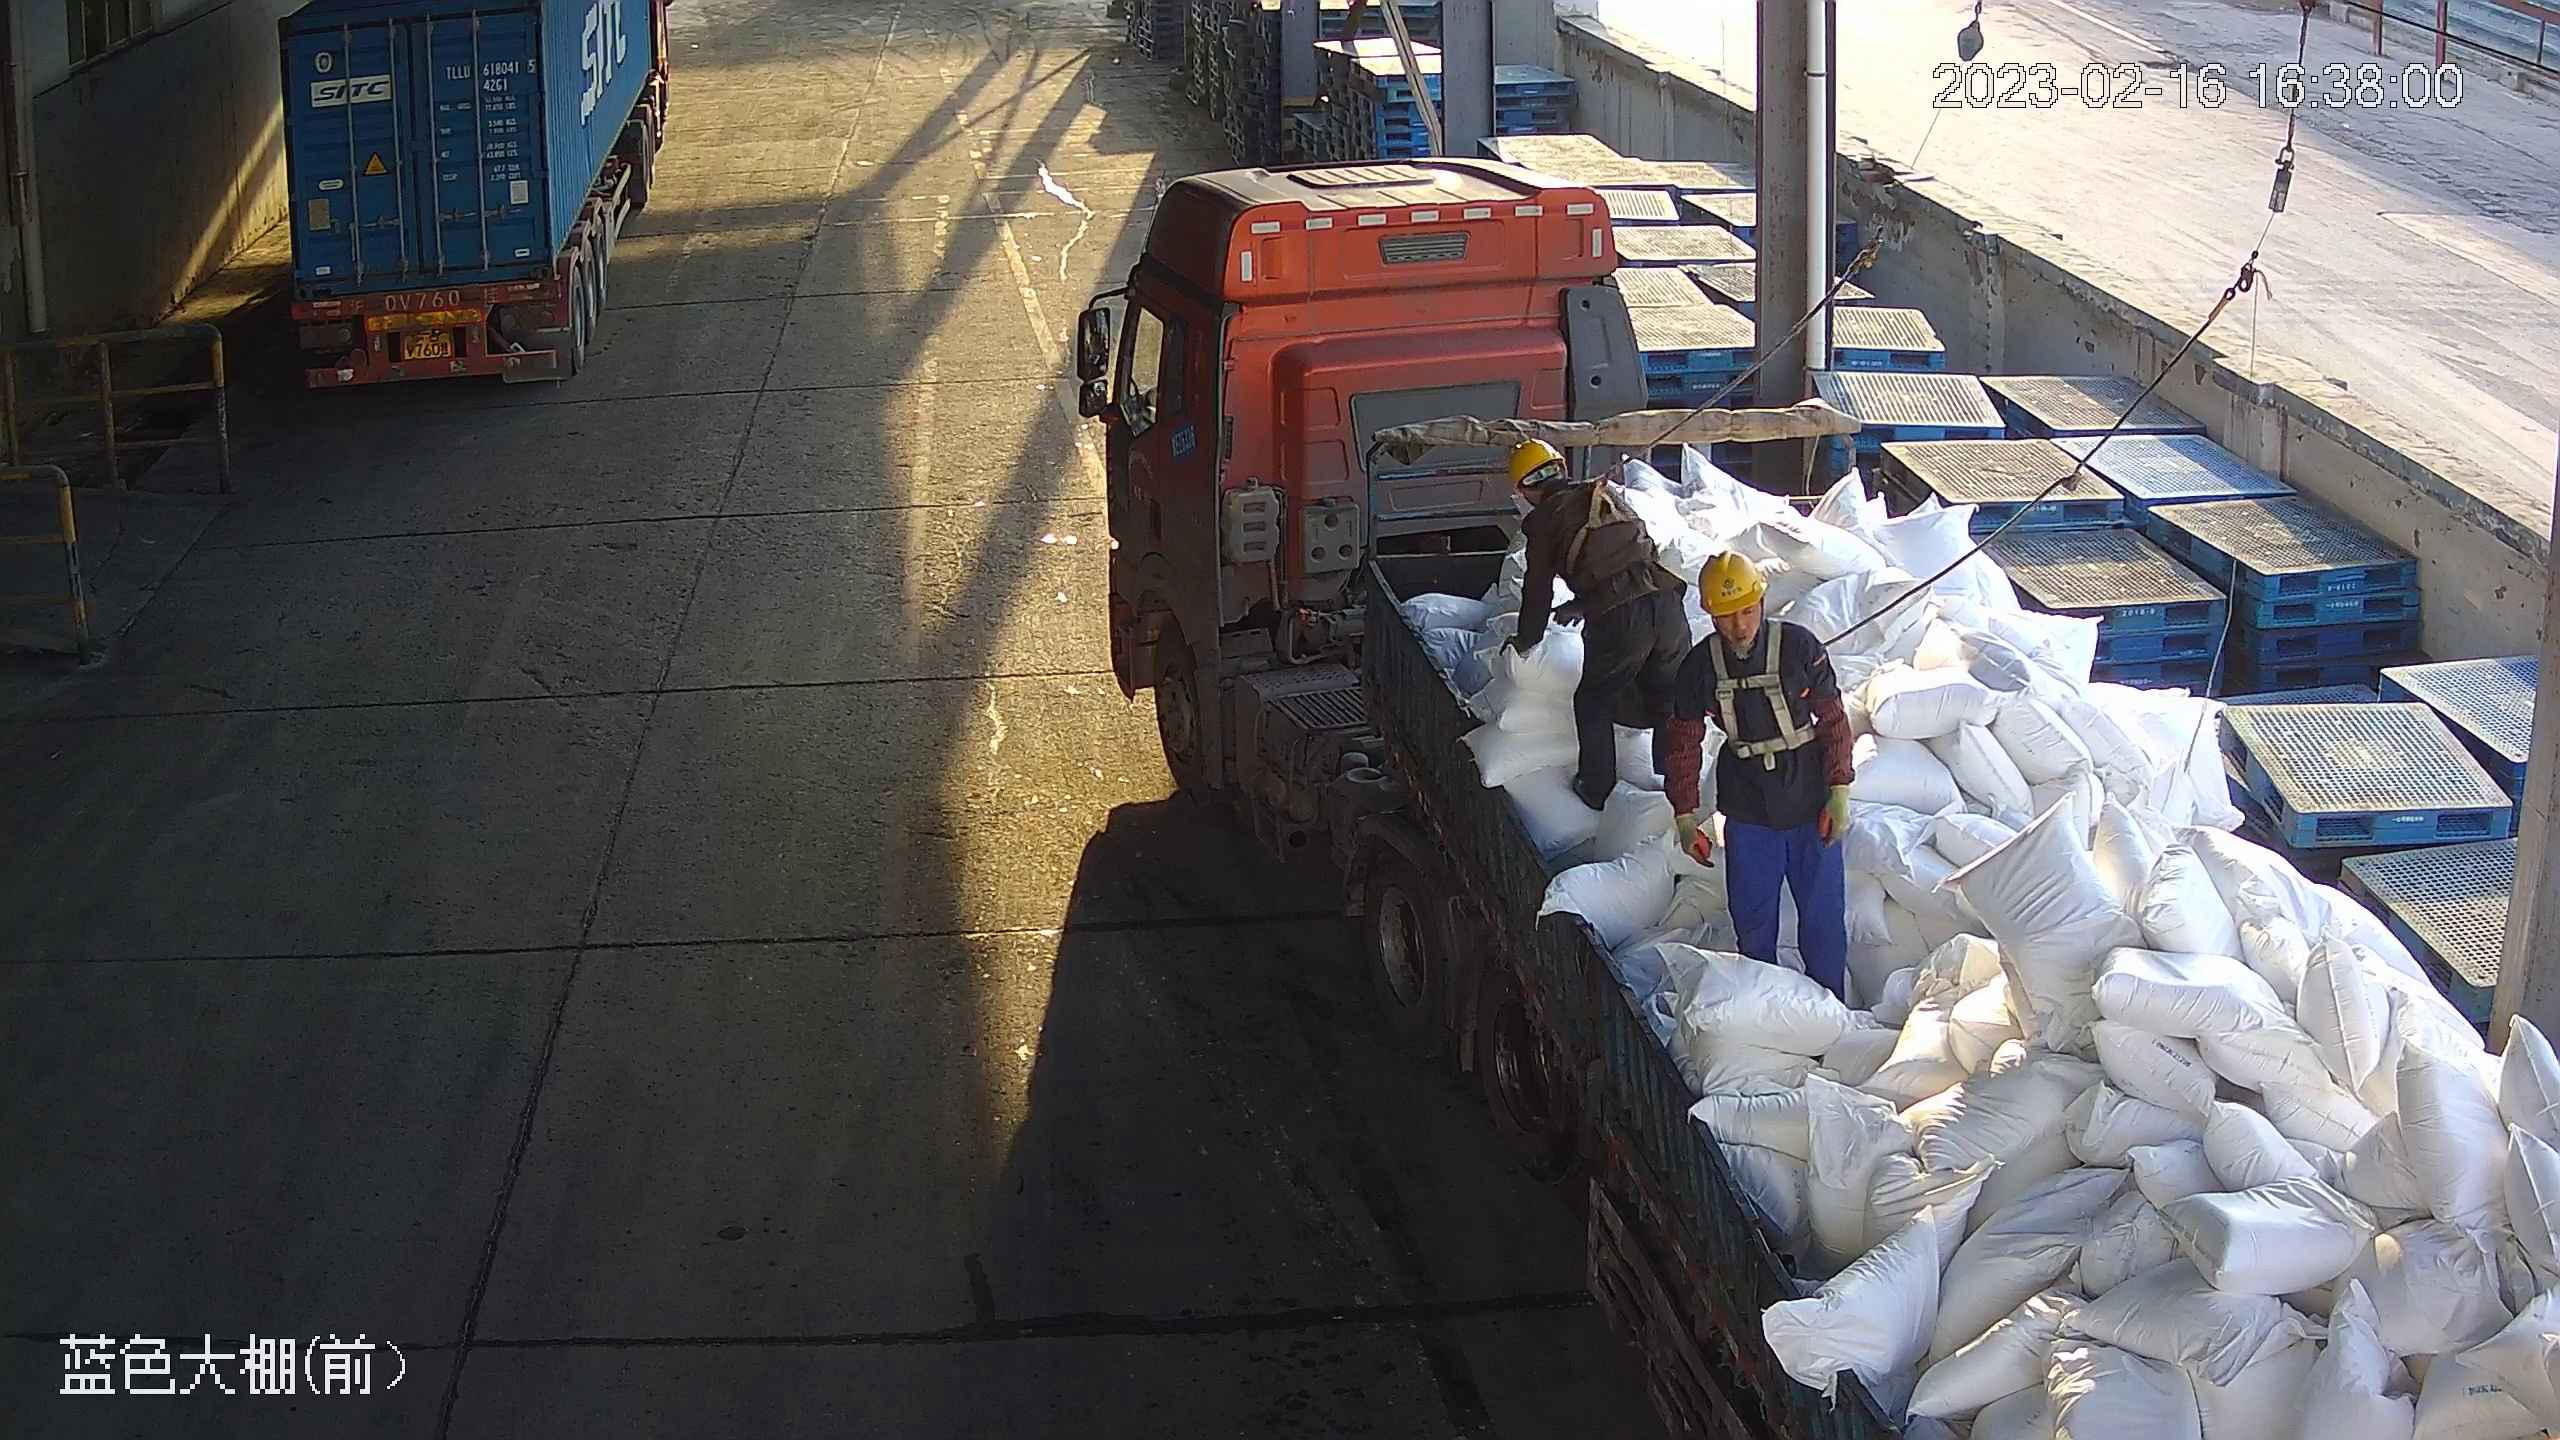belt: (1695, 616, 1819, 757), (1538, 479, 1660, 570)
head: (1681, 558, 1835, 692), (1511, 436, 1653, 542)
helmet: (1690, 551, 1772, 610), (1503, 429, 1579, 482)
people: (1679, 549, 1888, 1025), (1505, 440, 1707, 808)
truck: (1081, 158, 2560, 1440), (265, 1, 668, 392)
